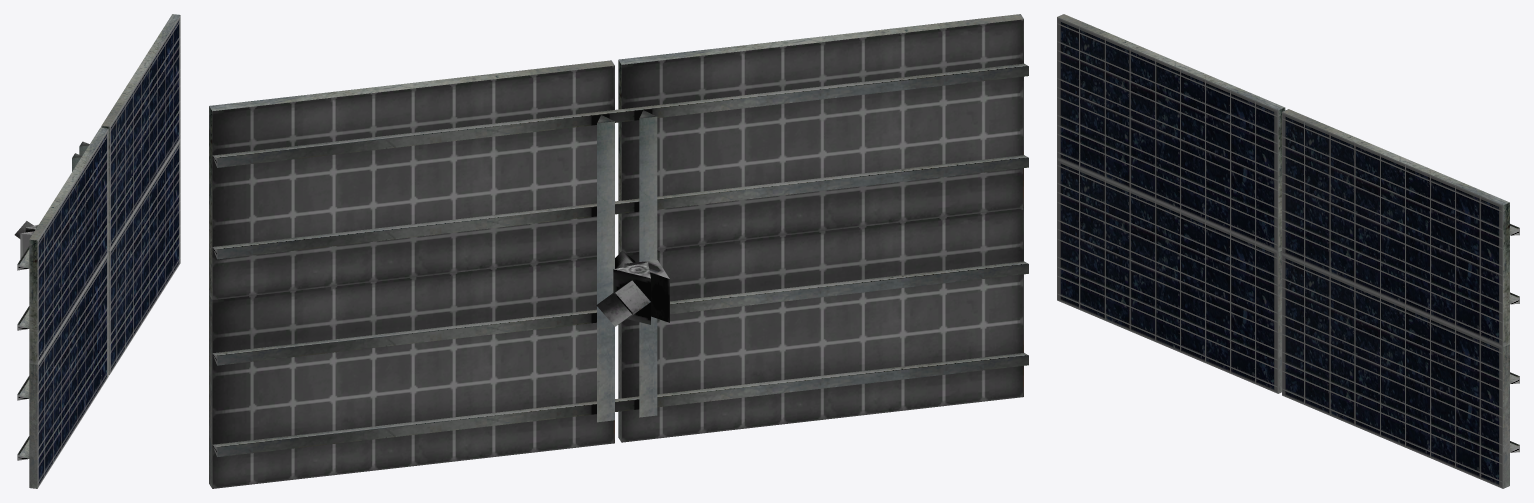
Rendered from machinery_solar_panels_on_post_top_LOD2.obj.
The picture shows the model from 3 angles, left to right: view 1: azimuth 30°, elevation 25°; view 2: azimuth 150°, elevation 25°; view 3: azimuth 270°, elevation 25°; orthographic projection. The views are drawn at different scales.
Parts seen in each view (by area): view 1: mtl_machinery_solar_panels_on_post_metal; view 2: mtl_machinery_solar_panels_on_post_metal; view 3: mtl_machinery_solar_panels_on_post_metal.
Boxes of the visible parts, x1,y1,x2,y2 form: mtl_machinery_solar_panels_on_post_metal: [14, 14, 180, 488]; mtl_machinery_solar_panels_on_post_metal: [209, 14, 1028, 488]; mtl_machinery_solar_panels_on_post_metal: [1057, 14, 1519, 488].
Size of the model in its own units: 481 by 325 by 481.
